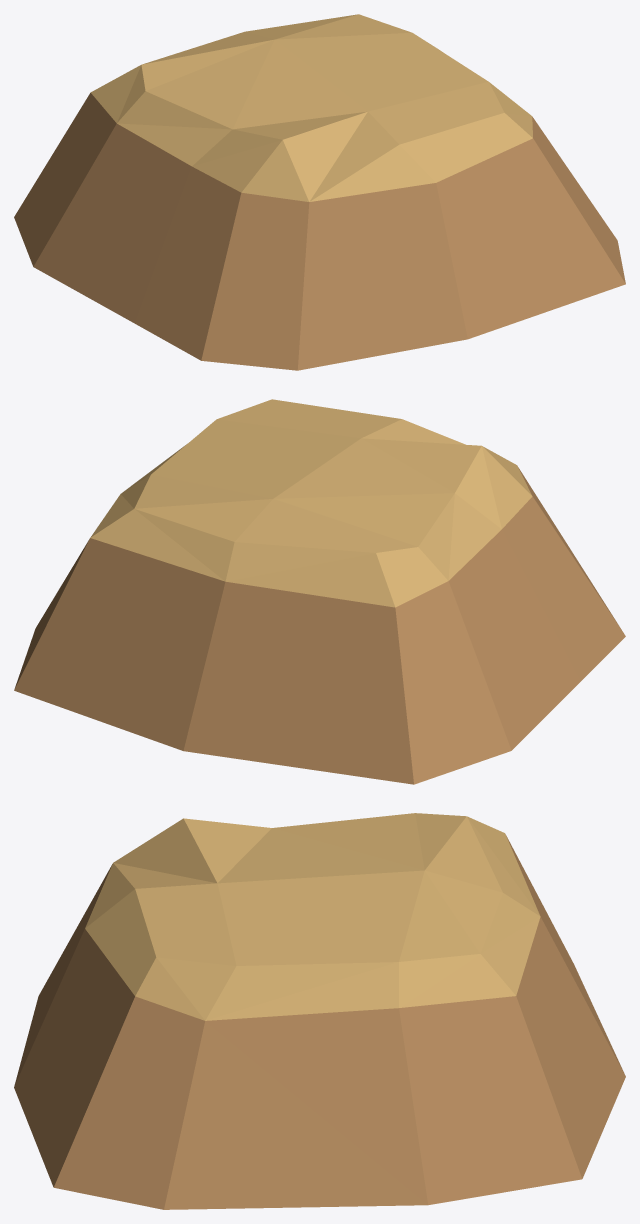
The model's file is TB_D_Env_MtA_A.FBX.
3 views of the same model, one above another, from view 1: azimuth 30°, elevation 25°; view 2: azimuth 150°, elevation 25°; view 3: azimuth 270°, elevation 25° (orthographic). The views are drawn at different scales.
Visible parts, largest first — view 1: TB_D_Env_MtA_A; view 2: TB_D_Env_MtA_A; view 3: TB_D_Env_MtA_A.
Part boxes in pixels (left/top/right/bottom): TB_D_Env_MtA_A: left=14, top=14, right=625, bottom=370; TB_D_Env_MtA_A: left=14, top=399, right=625, bottom=784; TB_D_Env_MtA_A: left=14, top=813, right=625, bottom=1209.
Bounding box in the file's own units: 13.58 × 4.91 × 13.18.
